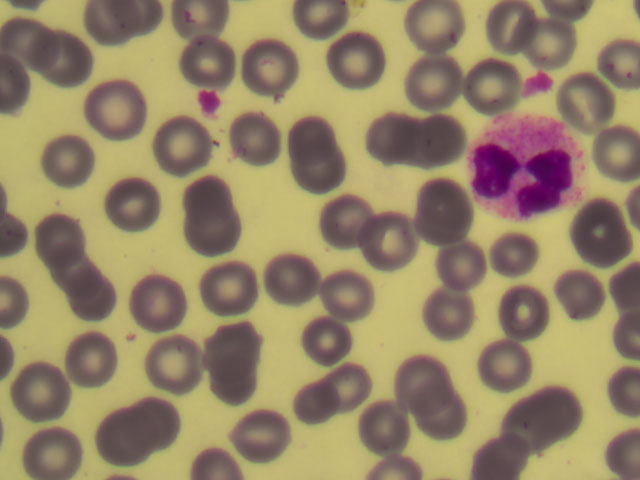Platelets: (521, 67, 552, 99), (190, 88, 224, 115)
RBC: (33, 30, 95, 91), (81, 80, 143, 141), (39, 129, 101, 190), (100, 174, 162, 235), (28, 198, 90, 259), (38, 237, 100, 298), (64, 268, 126, 329), (122, 275, 184, 336), (174, 208, 236, 269), (177, 165, 239, 226), (152, 118, 214, 179), (217, 113, 279, 174), (183, 30, 245, 91), (239, 38, 301, 99), (326, 32, 388, 93), (288, 119, 350, 180), (316, 192, 378, 253), (359, 212, 421, 273), (420, 184, 482, 245), (415, 115, 477, 176), (357, 107, 419, 168), (403, 54, 465, 115), (464, 47, 526, 108), (537, 5, 599, 66), (560, 69, 622, 130), (578, 118, 640, 179), (578, 197, 640, 258), (481, 225, 543, 286), (558, 268, 620, 329), (494, 287, 556, 348), (417, 286, 479, 347), (433, 241, 495, 302), (412, 183, 474, 244), (322, 263, 384, 324), (262, 247, 324, 308), (198, 254, 260, 315), (203, 314, 265, 375), (147, 329, 209, 390), (66, 329, 128, 390), (7, 362, 69, 423), (16, 419, 78, 480), (92, 412, 154, 473), (133, 385, 195, 446), (232, 404, 294, 465), (295, 378, 357, 439), (336, 353, 398, 414), (302, 311, 364, 372), (395, 347, 457, 408), (415, 386, 477, 447), (355, 401, 417, 462), (472, 340, 534, 401), (526, 380, 588, 441), (474, 419, 536, 480), (404, 1, 466, 61), (481, 1, 543, 61)
WBC: (470, 109, 586, 224)
